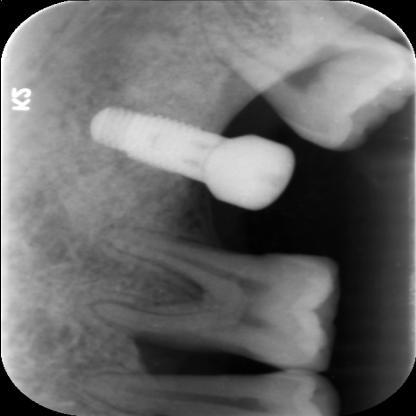Bego: (64, 88, 312, 221)
